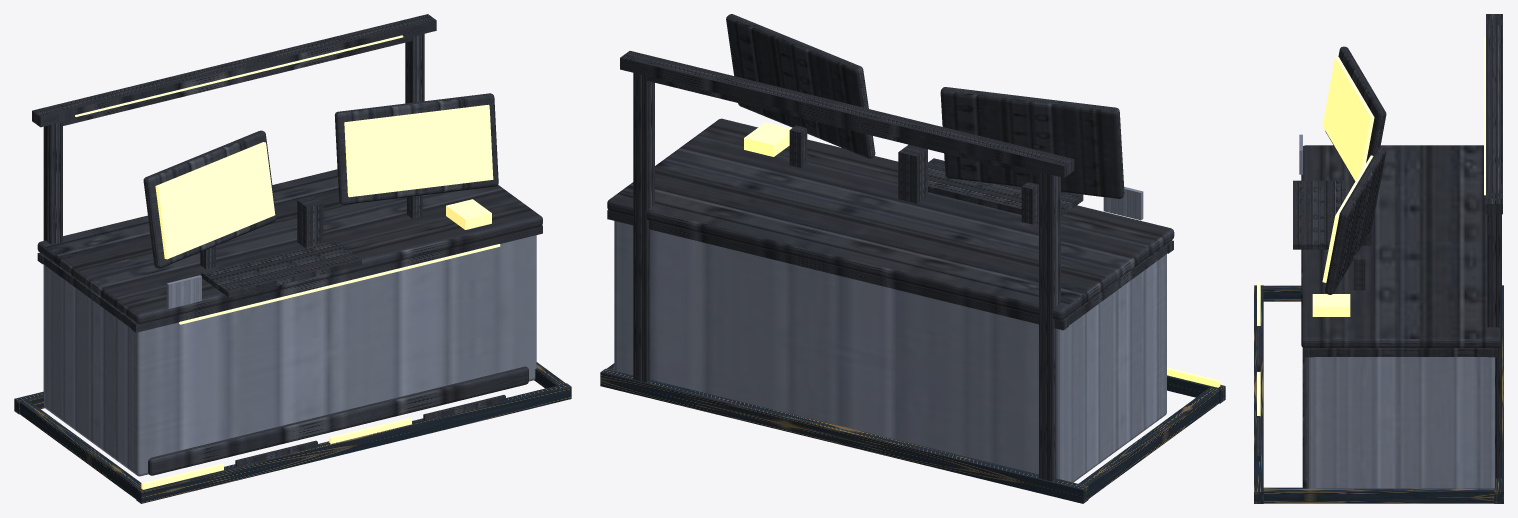
File: warehouse_terminal.glb
3 views of the same model, side by side, from view 1: azimuth 30°, elevation 25°; view 2: azimuth 150°, elevation 25°; view 3: azimuth 270°, elevation 25° (orthographic). The views are drawn at different scales.
Parts seen in each view (by area): view 1: body, top, sight_shell, glow1, glow0, kick, shelltoe0, kbd, screen1, screen0, shellrim0, shelltoes0 (+10 smaller); view 2: body, top, sight_shell, screen0, shelltoe2, screen1, shellrim2, shelltoes0, kbd, stand, scanner, shellrims0 (+4 smaller); view 3: top, body, sight_shell, shelltoes2, glow0, screen1, kbd, shelltoe0, shellrims2, screen0, scanner, kick (+5 smaller).
Part boxes in pixels (box(x1,y1,x2,y2)): body: box(44, 235, 536, 476); top: box(37, 169, 542, 324); sight_shell: box(32, 14, 436, 392); glow1: box(344, 104, 493, 197); glow0: box(155, 142, 275, 259); kick: box(148, 366, 528, 475); shelltoe0: box(136, 383, 571, 503); kbd: box(201, 240, 361, 297); screen1: box(334, 93, 498, 204); screen0: box(143, 130, 276, 268); shellrim0: box(131, 225, 542, 332); shelltoes0: box(19, 399, 141, 498); body: box(614, 221, 1166, 482); top: box(607, 118, 1174, 320); sight_shell: box(620, 51, 1074, 481); screen0: box(940, 87, 1124, 198); shelltoe2: box(600, 368, 1088, 503); screen1: box(726, 14, 875, 158); shellrim2: box(607, 210, 1068, 330); shelltoes0: box(1077, 387, 1219, 498); kbd: box(928, 158, 1083, 216); stand: box(898, 144, 927, 203); scanner: box(744, 122, 790, 156); shellrims0: box(1067, 244, 1167, 325); top: box(1301, 145, 1500, 348); body: box(1307, 357, 1494, 488); sight_shell: box(1486, 14, 1502, 478); shelltoes2: box(1263, 487, 1494, 503); glow0: box(1322, 56, 1374, 180); screen1: box(1325, 147, 1386, 294); kbd: box(1293, 180, 1345, 249); shelltoe0: box(1254, 285, 1263, 503); shellrims2: box(1311, 348, 1491, 356); screen0: box(1325, 46, 1386, 181); scanner: box(1312, 294, 1350, 316); kick: box(1302, 348, 1307, 487).
Bounding box in the file's own units: 2.58 × 1.7 × 1.32.
7 materials, 5 textured.
